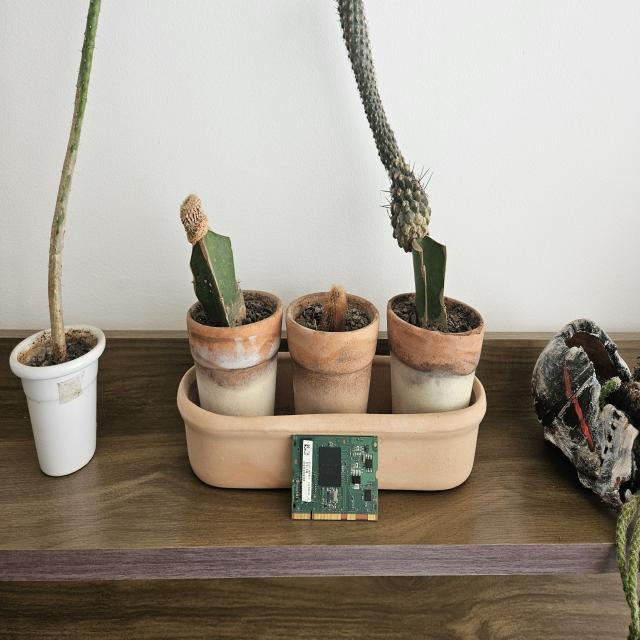som: (289, 427, 387, 535)
